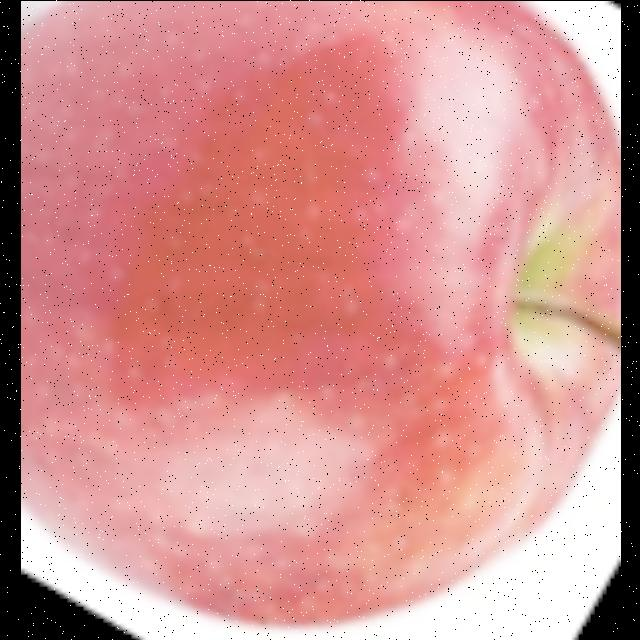Apel Segar: (20, 0, 620, 633)
